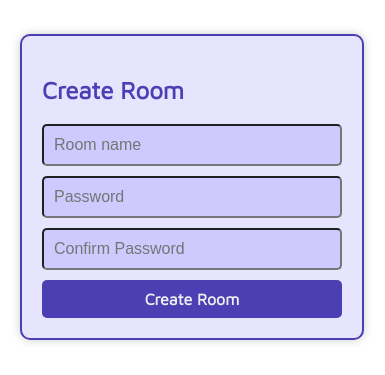
Test: CreateRoom Component › displays error message when submitting with empty fields
What coordinates should you click on to do the following:
click the button
I would click on:
 (192, 299)
Its box is [42,280,342,318].
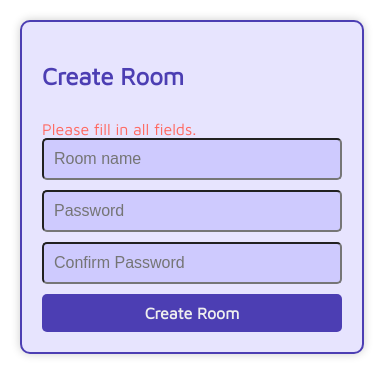
Now the text "Please fill in all fields." is shown, box [42,120,196,138]
